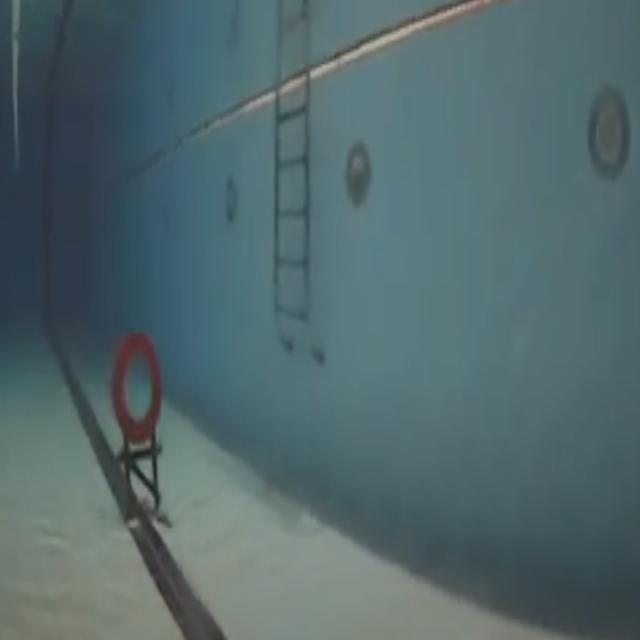Circle: (113, 331, 163, 442)
